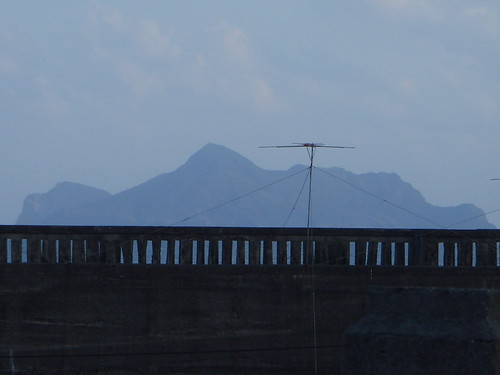turtleIslandLeft: (12, 143, 494, 228)
